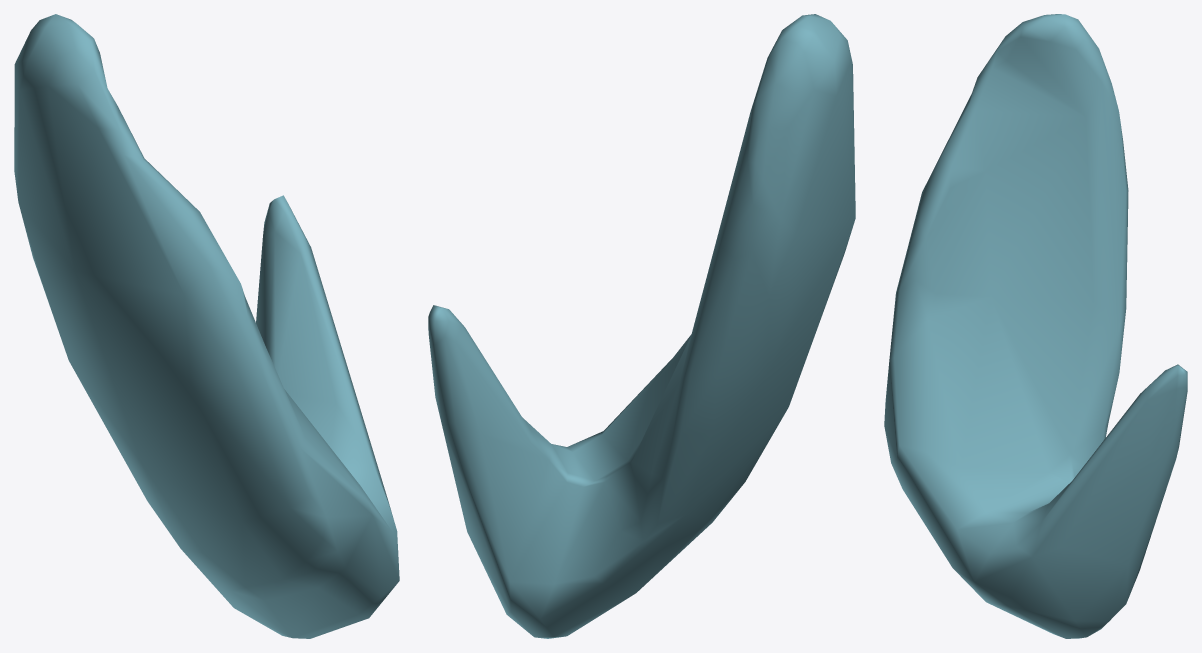
The picture shows the model from 3 angles, left to right: view 1: azimuth 30°, elevation 25°; view 2: azimuth 150°, elevation 25°; view 3: azimuth 270°, elevation 25°; orthographic projection. The views are drawn at different scales.
Parts seen in each view (by area): view 1: 右侧鼻翼大软骨; view 2: 右侧鼻翼大软骨; view 3: 右侧鼻翼大软骨.
Boxes of the visible parts, x1,y1,x2,y2 form: 右侧鼻翼大软骨: (14, 14, 399, 638); 右侧鼻翼大软骨: (428, 14, 855, 638); 右侧鼻翼大软骨: (884, 14, 1187, 638).
Bounding box in the file's own units: 0.0218 × 0.0403 × 0.0209.
